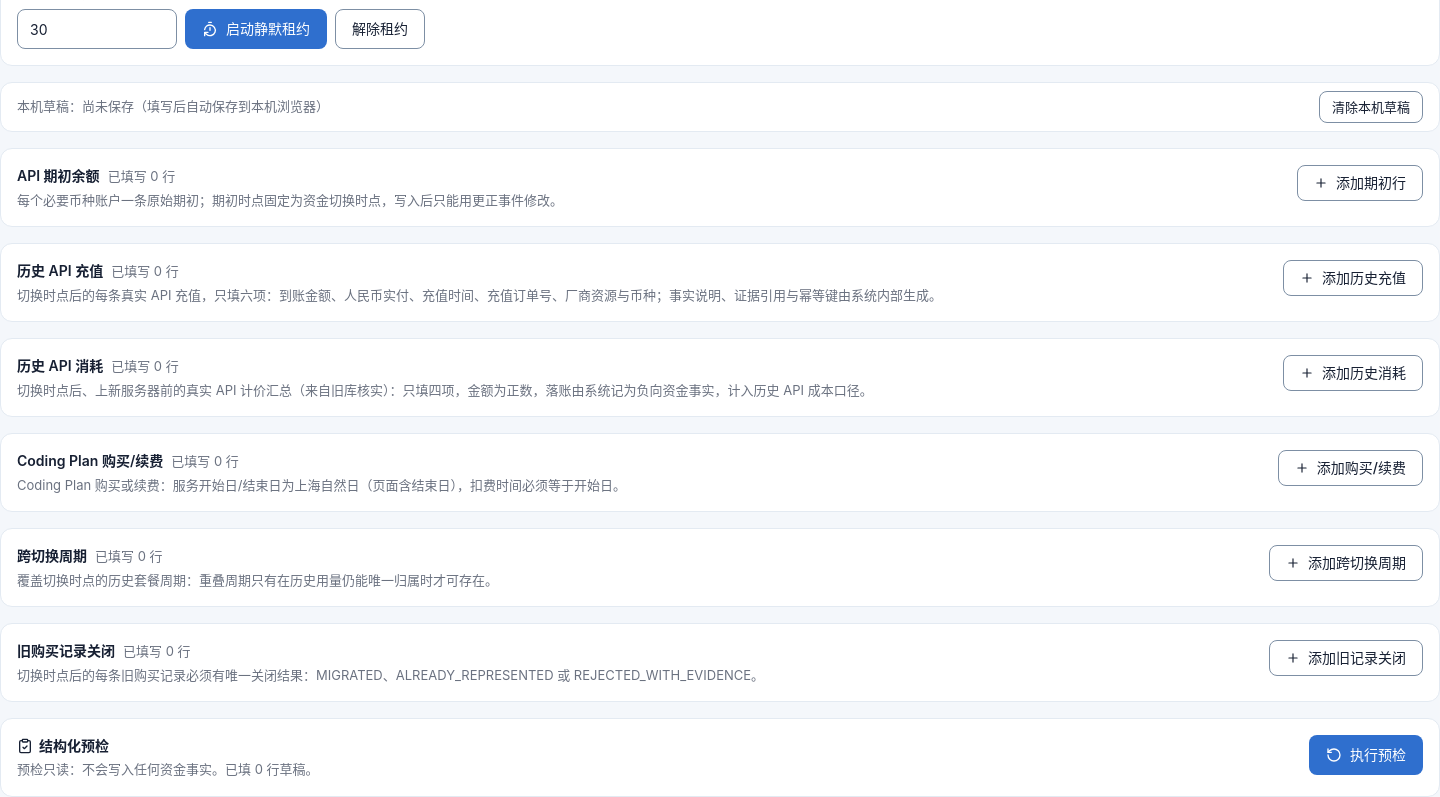
Test: 预检与结构化缺口 › 预检请求体只含业务草稿与 schema 版本，不含 enterprise_id / admin_id
(page scrolled)
Click the button "执行预检" at [1366, 755], box [1309,735,1423,775]
(page scrolled)
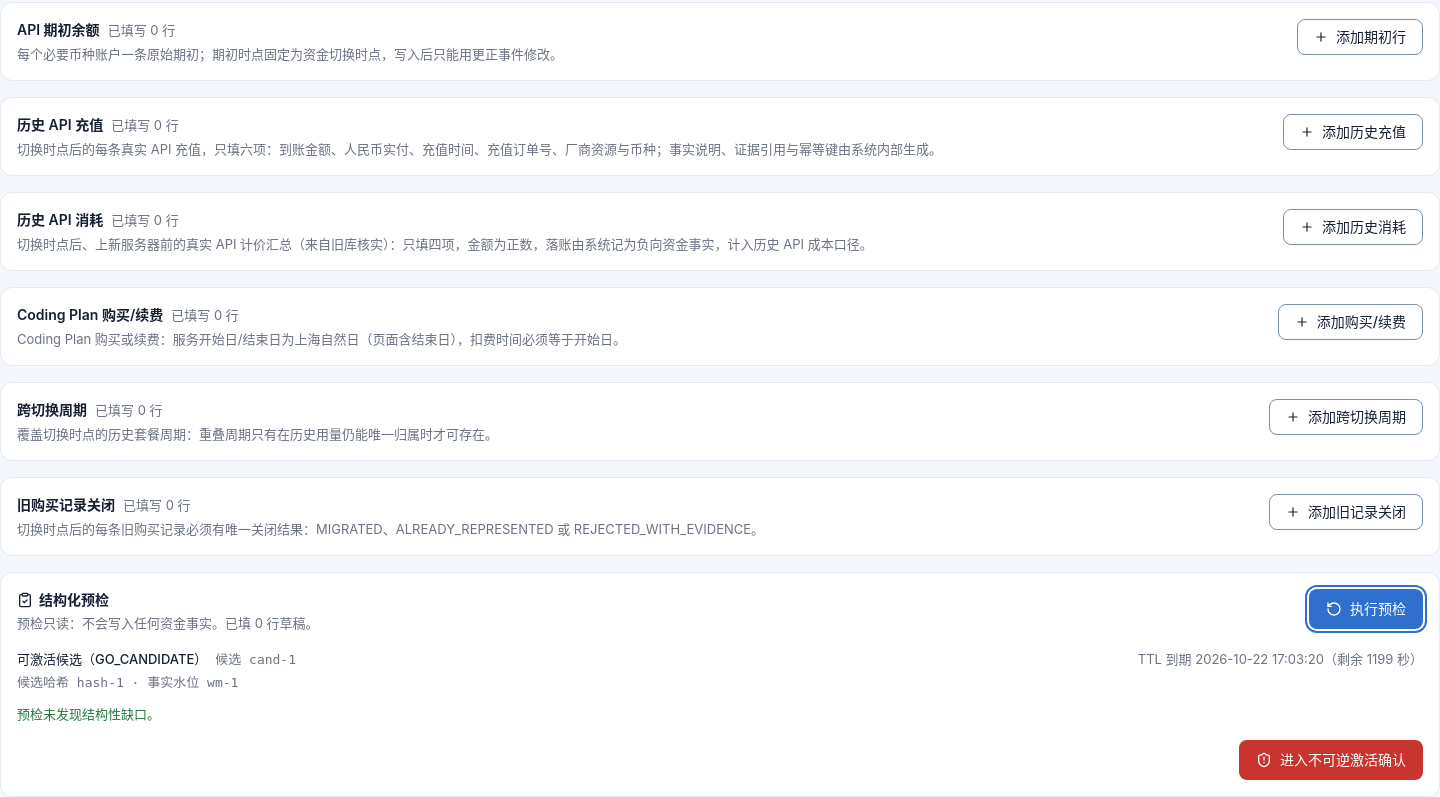
Result: the element with test id "activation-preview-result" is shown at [17,650,1423,780]
